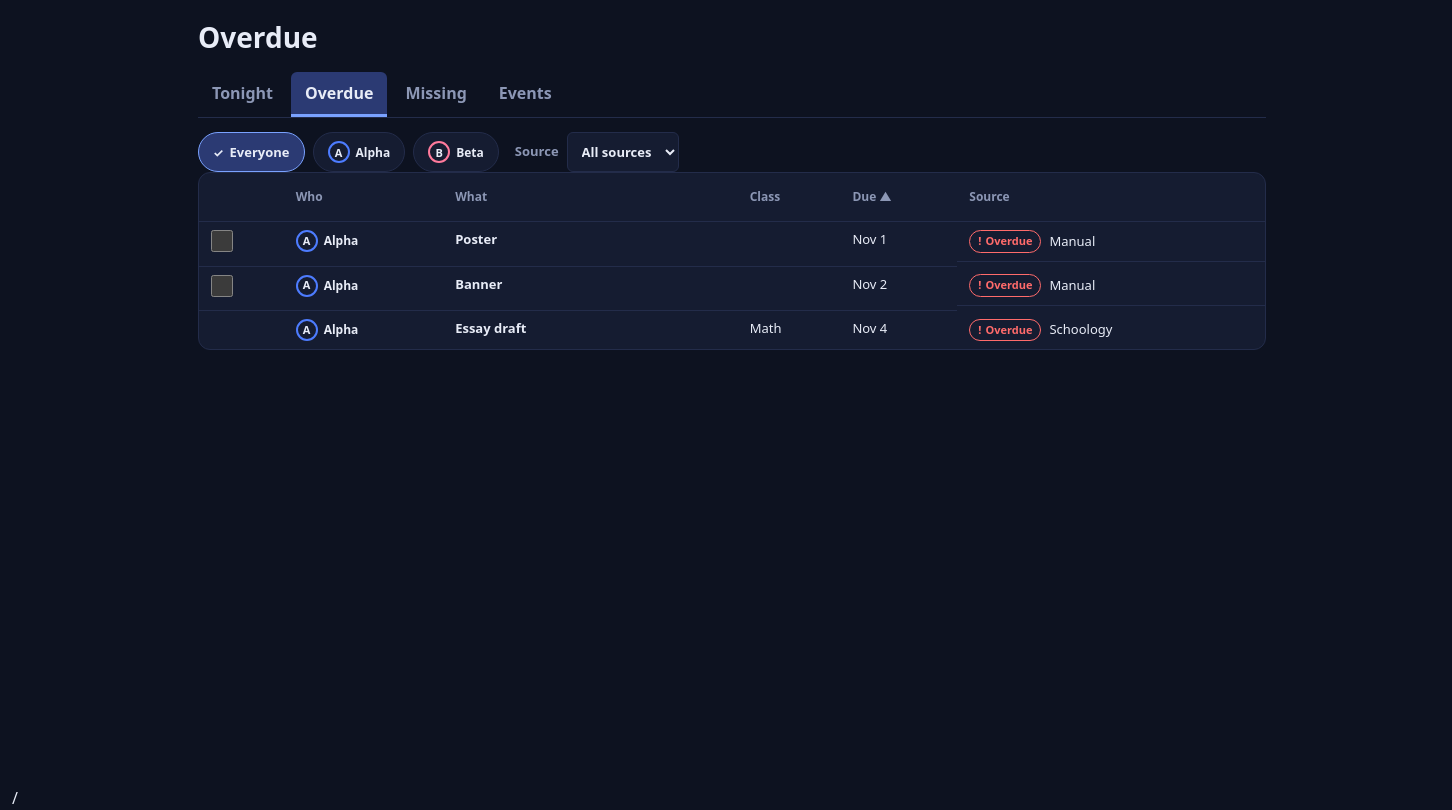
maintenance 503 shows the paused-for-maintenance message
Expected: the table is shown, [199, 173, 1265, 349]
Click the checkbox named "poster".
click(222, 241)  # box [211, 230, 233, 252]
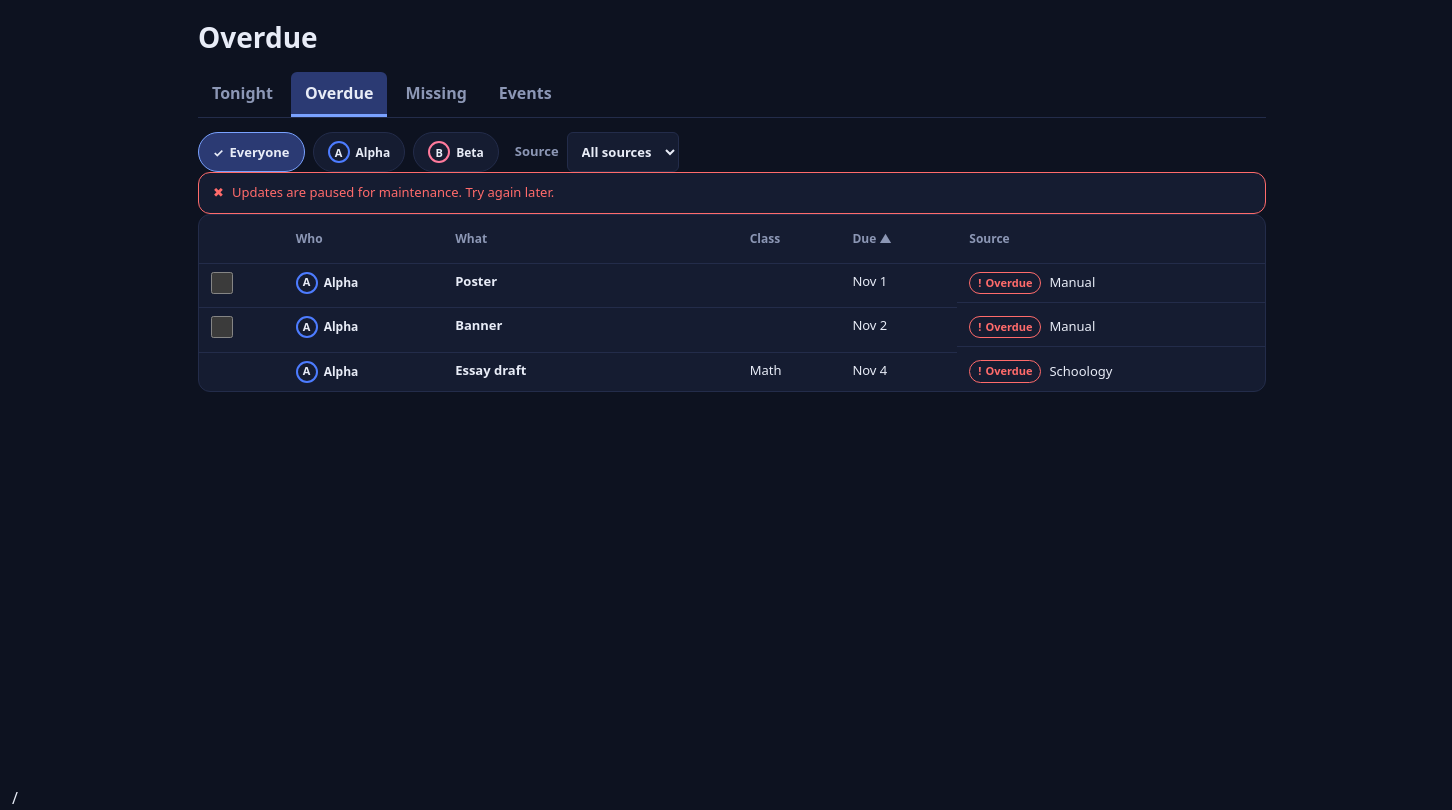
Expected: the cell "Poster" is shown, [443, 263, 738, 308]
Expected: the message shows "Updates are paused for maintenance. Try again later.", [232, 183, 554, 201]
